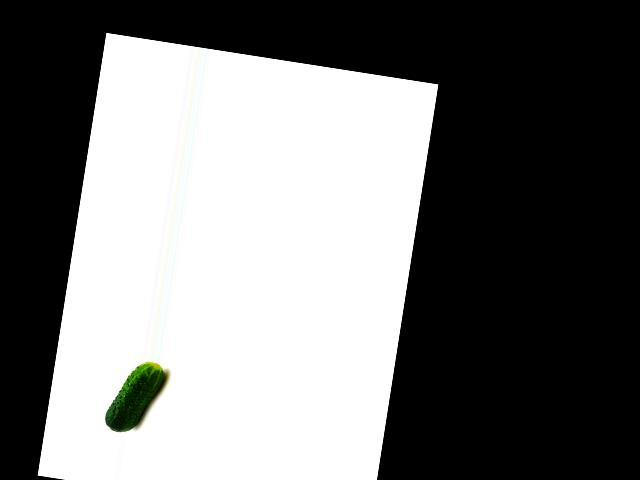cucumber: (103, 356, 166, 437)
